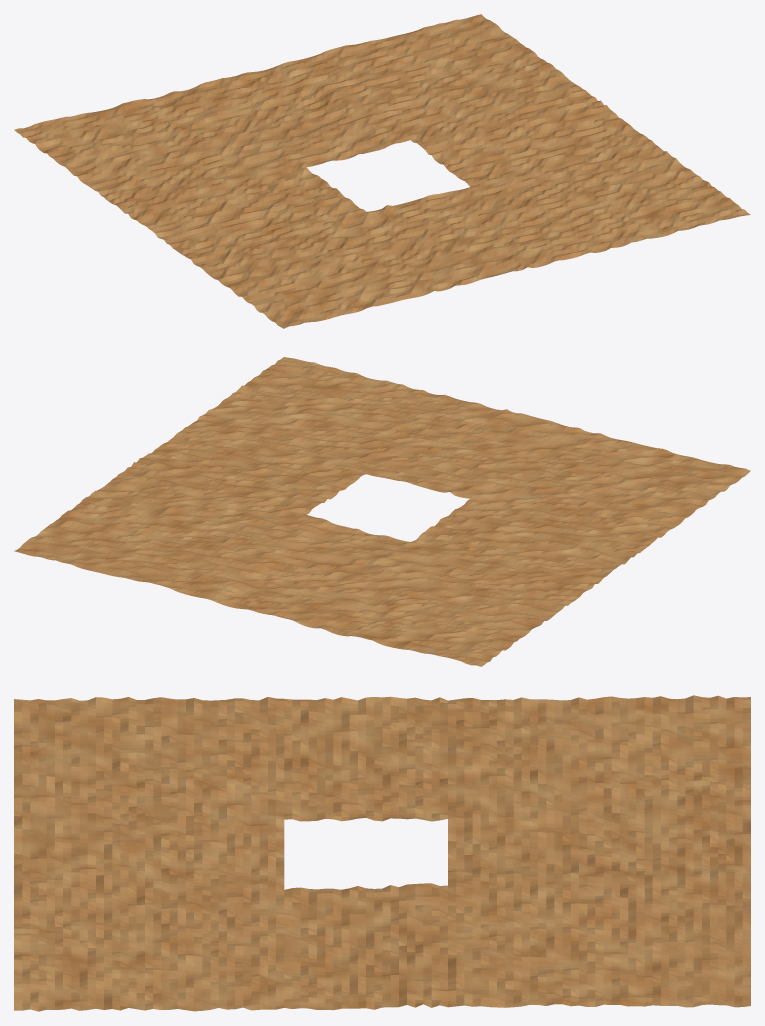
File: backdrop_ground.glb
The picture shows the model from 3 angles, top to bottom: view 1: azimuth 30°, elevation 25°; view 2: azimuth 150°, elevation 25°; view 3: azimuth 270°, elevation 25°; orthographic projection. The views are drawn at different scales.
Parts seen in each view (by area): view 1: FarTerrain; view 2: FarTerrain; view 3: FarTerrain.
Part boxes in pixels (<box>): FarTerrain: <box>14,14,750,328</box>; FarTerrain: <box>14,357,750,666</box>; FarTerrain: <box>14,695,750,1011</box>.
Size of the model in its own units: 1800 by 25.61 by 1800.
